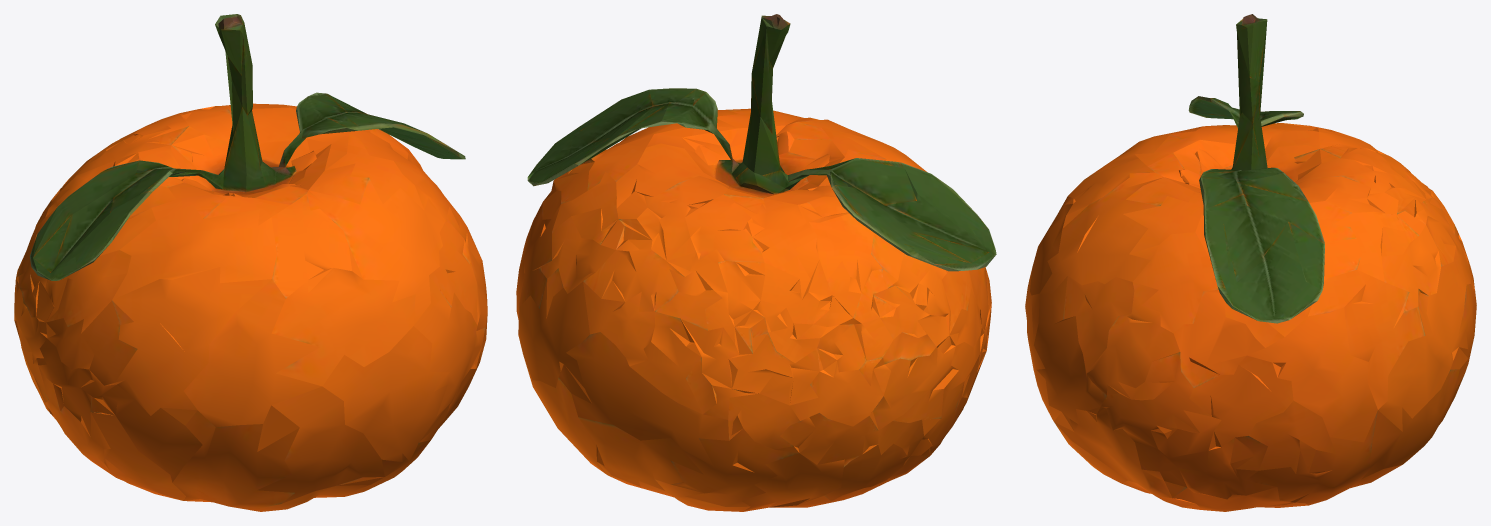
Rendered from mandarin-fruit.glb.
The picture shows the model from 3 angles, left to right: view 1: azimuth 30°, elevation 25°; view 2: azimuth 150°, elevation 25°; view 3: azimuth 270°, elevation 25°; orthographic projection. The views are drawn at different scales.
Parts seen in each view (by area): view 1: mandarin-fruit; view 2: mandarin-fruit; view 3: mandarin-fruit.
Boxes of the visible parts, x1,y1,x2,y2 form: mandarin-fruit: (14,14,487,511); mandarin-fruit: (516,14,996,511); mandarin-fruit: (1025,14,1476,511).
Bounding box in the file's own units: 0.069 × 0.0694 × 0.064.
Materials: 1 (1 with a texture image).
